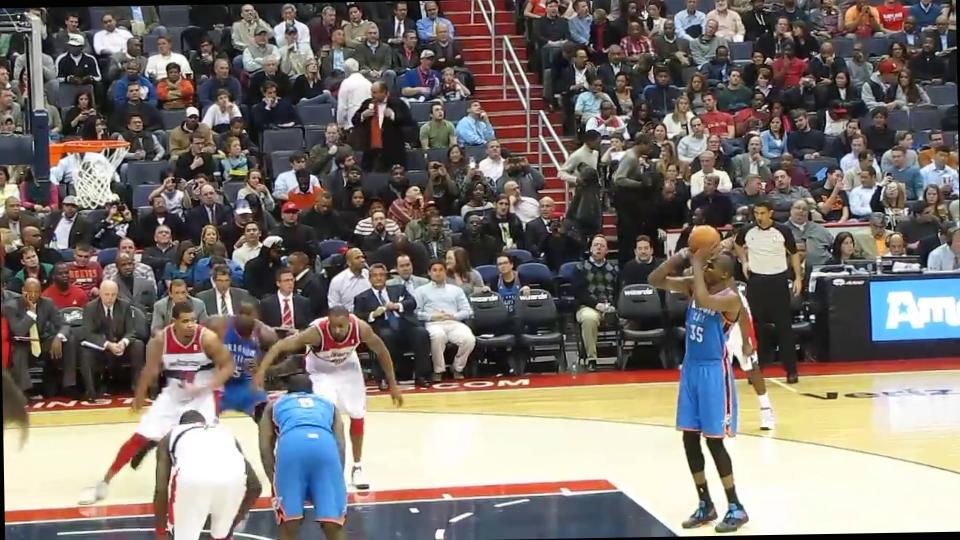hoop: (47, 136, 135, 158)
